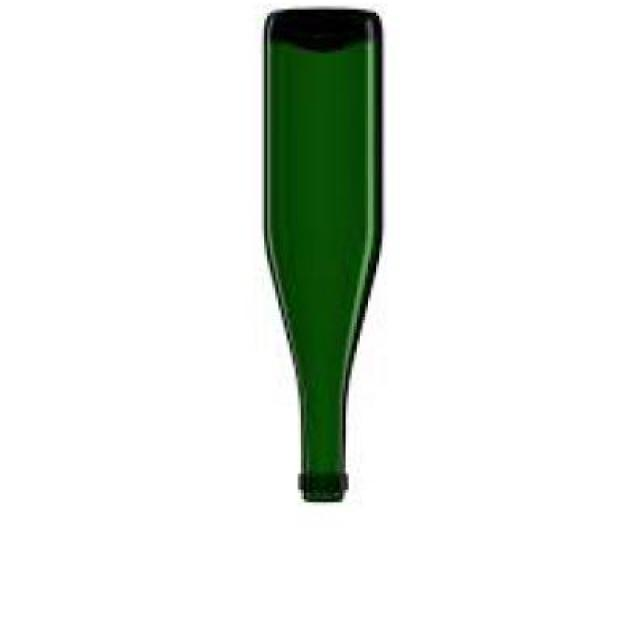kaca: (267, 12, 384, 506)
